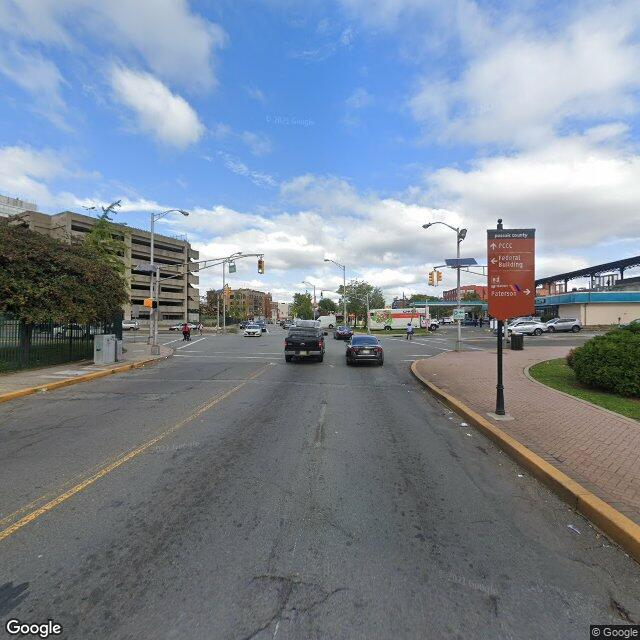pothole: (263, 564, 308, 630)
